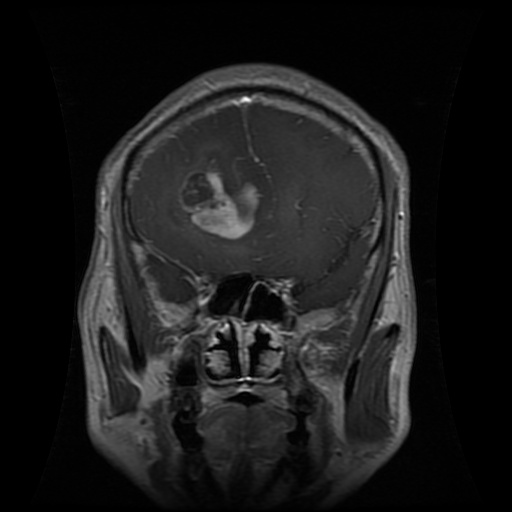glioma: (179, 147, 259, 240)
